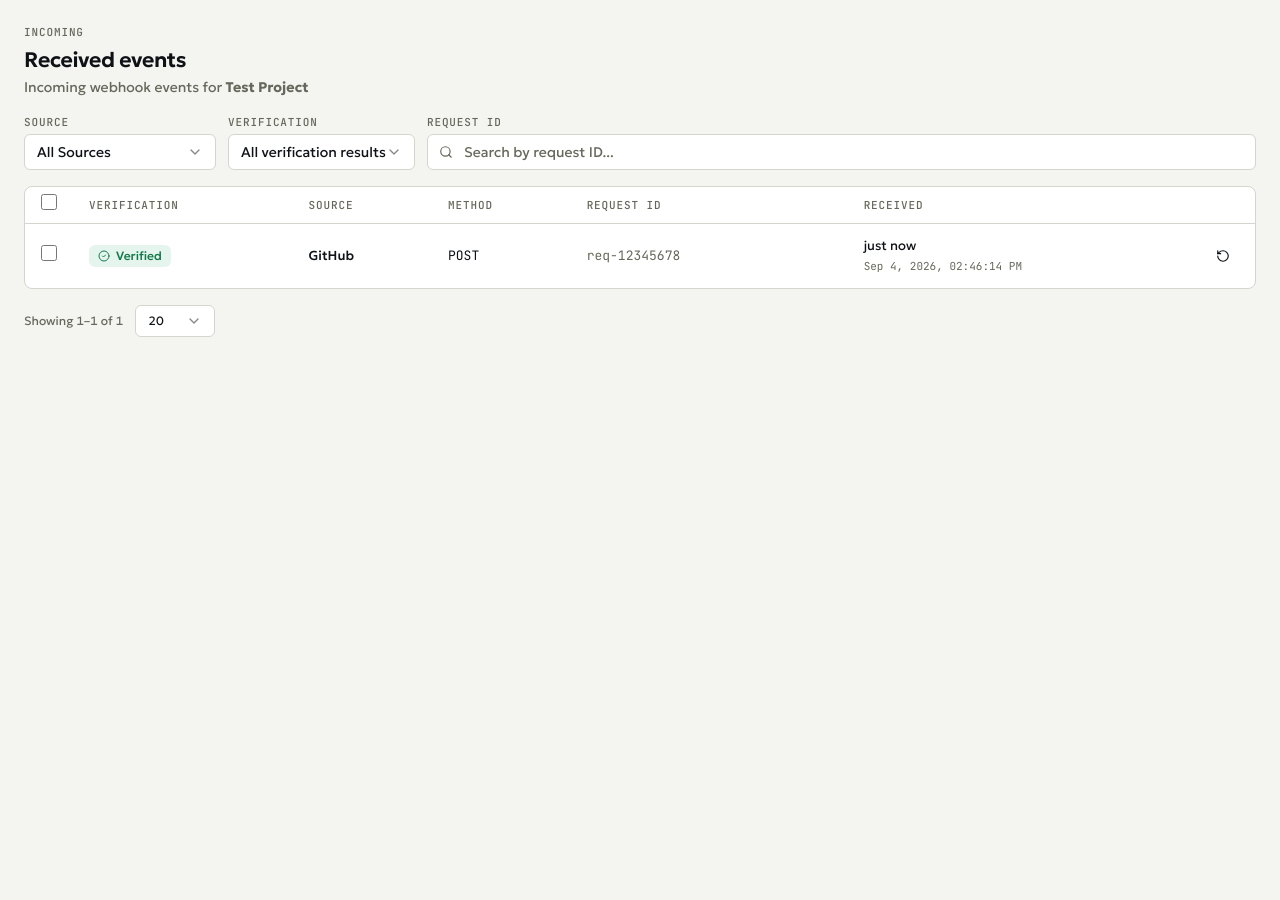
IncomingEventsPage › shows what was actually forwarded, not only what came back
The width and height of the screenshot is (1280, 900).
Click the text "req-12345678" at (633, 256), box left=587, top=246, right=680, bottom=266
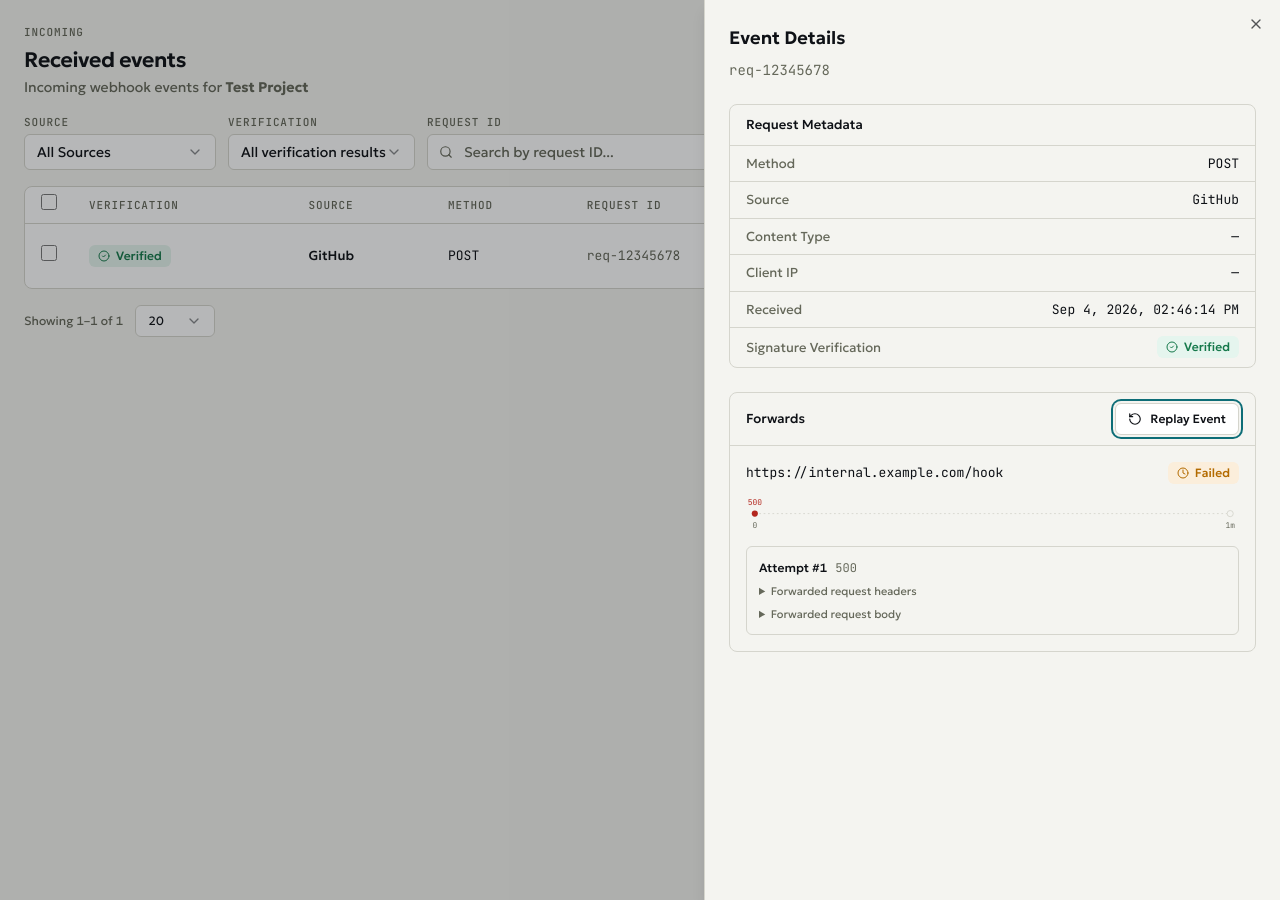
Expected: the heading "Forwarded request headers" is shown, left=771, top=584, right=917, bottom=598
Expected: the heading "Forwarded request body" is shown, left=771, top=607, right=901, bottom=621
